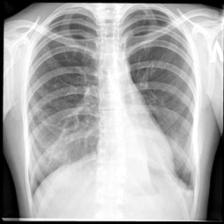tuberculosis: (23, 4, 201, 217)
